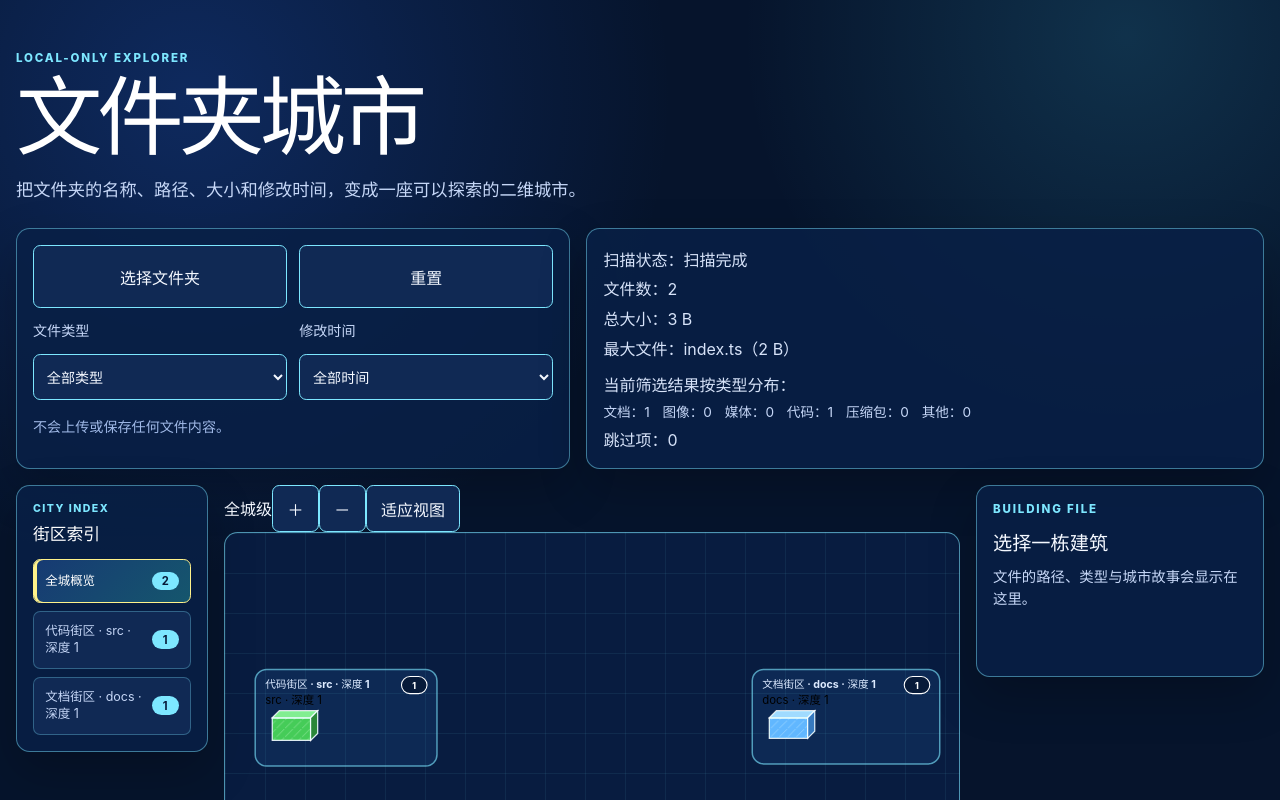
keeps navigation and map on the same controlled active district
Click the button with aria-label "代码街区 · src · 深度 1，共 1 个文件". click: (112, 640)
box: [33,610,191,669]
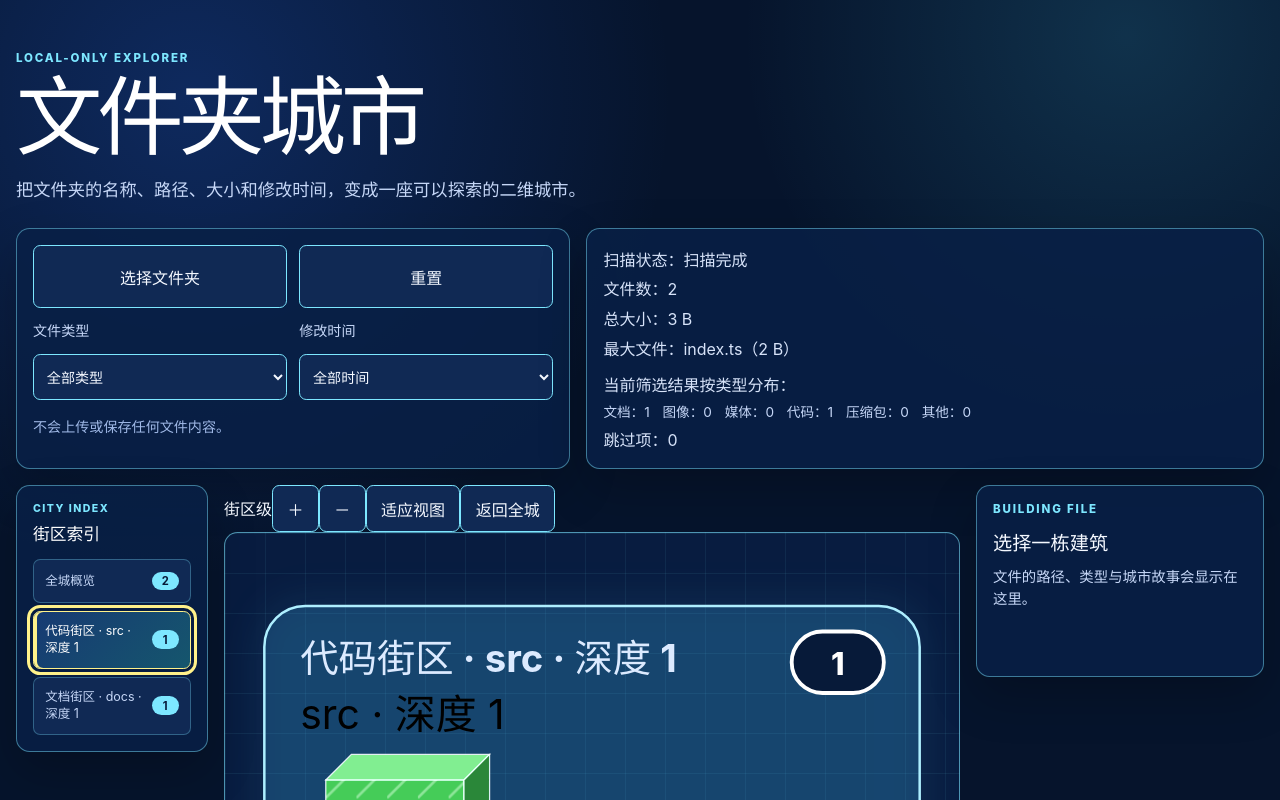
Check: the navigation bar named "城市地图控制" shows "街区级", box [224,500,272,520]
